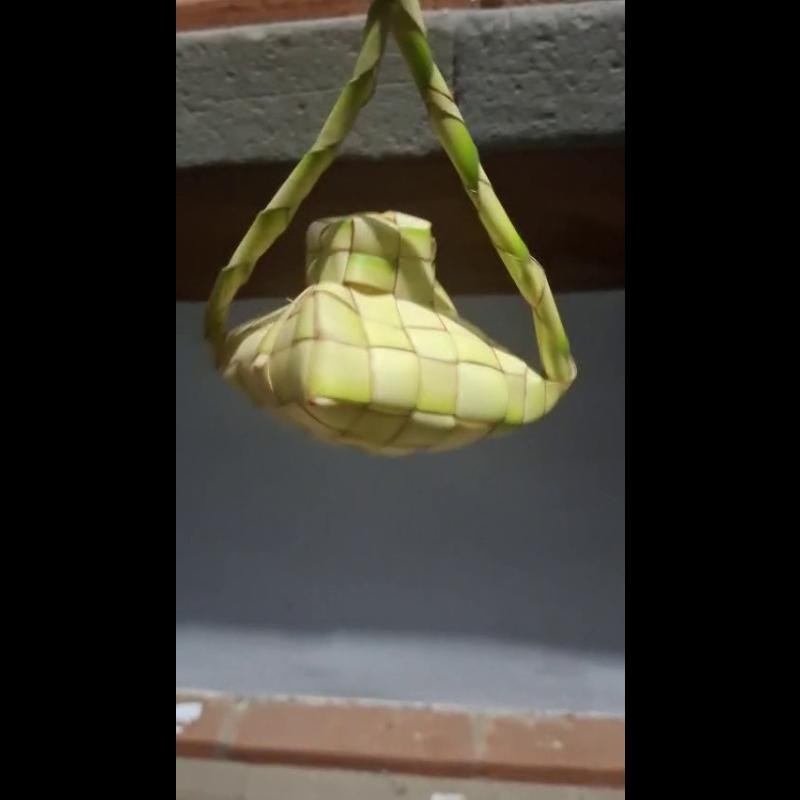Tipat Gong: (203, 0, 582, 459)
